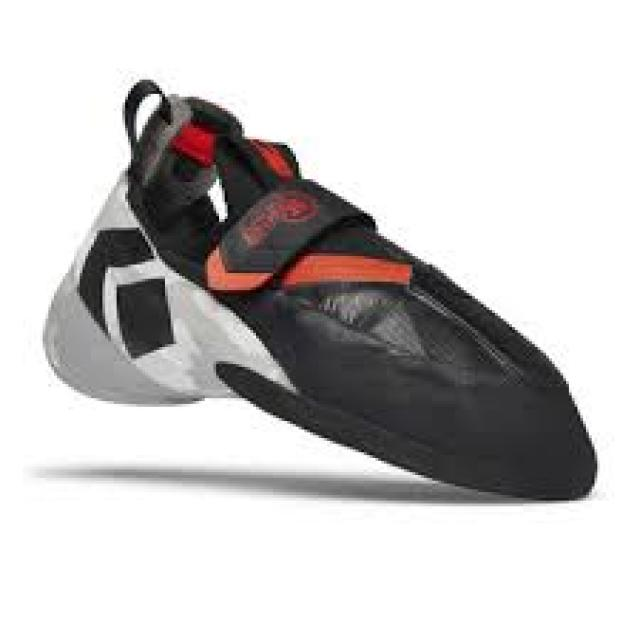climbing-shoes: (47, 78, 599, 502)
